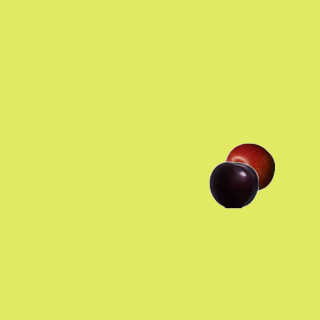Apple Braeburn: (224, 142, 274, 192)
Cherry Wax Black: (208, 159, 258, 209)
